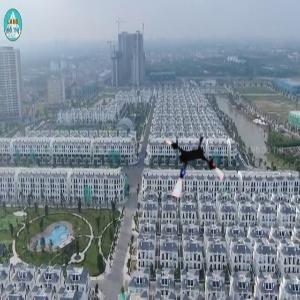drone: (154, 130, 229, 205)
